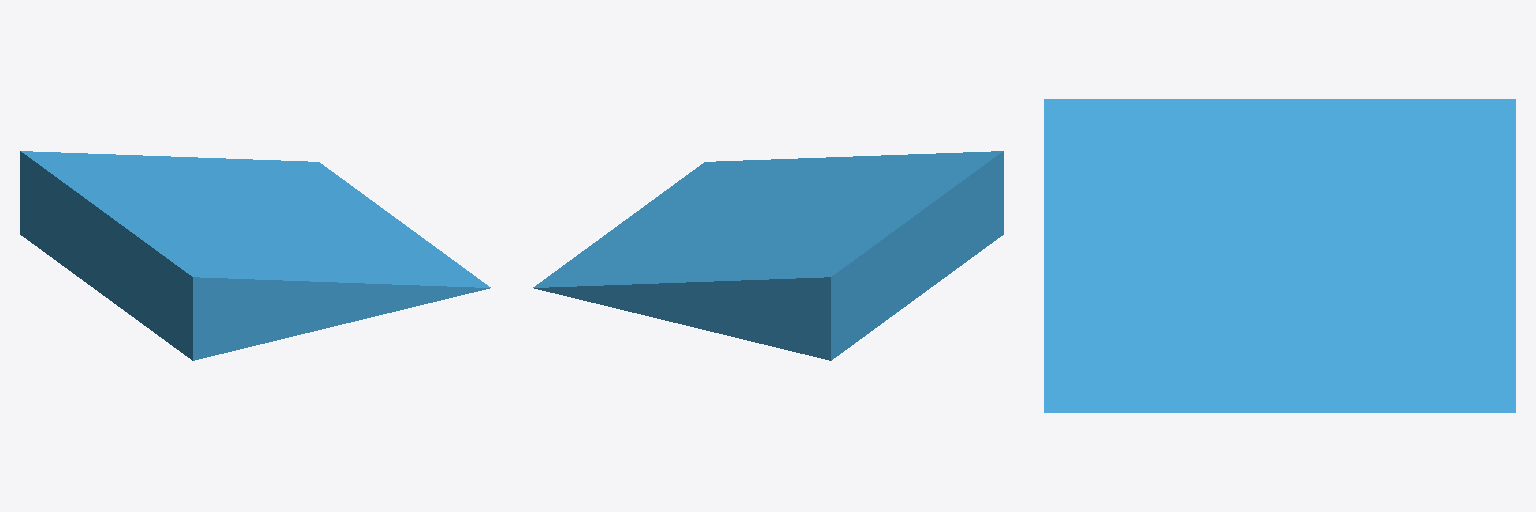
The robot description file, URDF, robot "Y_positive_15":
<?xml version="1.0" ?>
<robot name="Y_positive_15">
<!-- Used for fixing robot to Gazebo 'base_link' -->

<link name="world"/>

  <joint name="fixed" type="fixed">
    <parent link="world"/>
    <child link="Y_positive_15__link"/>
  </joint>

  <link name="Y_positive_15__link">
    <inertial>
      <mass value="10"/>
      <inertia ixx="1.0" ixy="0.0" ixz="0.0" iyy="1.0" iyz="0.0" izz="1.0"/>
    </inertial>
    <collision>
      <geometry>
         <mesh filename="package://pal_gazebo_worlds/models/Y_positive_15/meshes/15_degree_slope.stl" scale="0.00999 0.00999 0.00999"/>
      </geometry>
      <surface>
        <friction>
          <ode>
            <mu1 value="1.0" />
            <mu2 value="1.0" />
            <kp  value="1e5" />
            <kd  value="1e2" />
            <maxVel  value="100.0" />
            <minDepth  value="0.0" />
            <dampingFactor>0.01</dampingFactor>
          </ode>
        </friction>
      </surface>
    </collision>
    <visual>
      <geometry>
        <mesh filename="package://pal_gazebo_worlds/models/Y_positive_15/meshes/15_degree_slope.stl" scale="0.00999 0.00999 0.00999"/>
      </geometry>
      <material name="white">
      </material>
    </visual>
  </link>



</robot>

--- What the picture shows (computed from the rendered views, not written in the file) ---
3 views of the same robot in one strip: view 1: azimuth 30°, elevation 25°; view 2: azimuth 150°, elevation 25°; view 3: azimuth 270°, elevation 25° (orthographic).
Model Y_positive_15 with 2 links and 1 joints (1 fixed), rooted at world, posed all joints at 0.
Visible links, largest first — view 1: Y_positive_15__link; view 2: Y_positive_15__link; view 3: Y_positive_15__link.
Link boxes in pixels (x1,y1,x2,y2): Y_positive_15__link: [20, 151, 490, 360]; Y_positive_15__link: [533, 151, 1003, 360]; Y_positive_15__link: [1044, 99, 1515, 412].
Size in the robot's own frame: 0.3996 by 0.3996 by 0.1071 metres.
Meshes: 1 distinct files referenced, 1 mesh visuals loaded (1 binary STL).